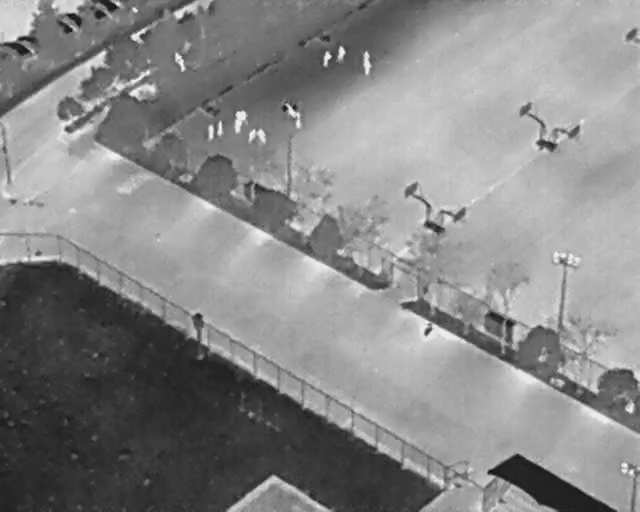Bicycle: (420, 321, 435, 338)
Car: (0, 34, 34, 62), (76, 0, 108, 27), (60, 6, 86, 30), (51, 15, 74, 37), (89, 0, 121, 15), (16, 34, 38, 45)
Person: (244, 126, 258, 146), (256, 126, 269, 145), (235, 110, 249, 126), (205, 124, 215, 141), (233, 119, 243, 136), (335, 45, 345, 62), (363, 59, 372, 76), (216, 119, 224, 138), (323, 52, 332, 66), (363, 49, 370, 65)
